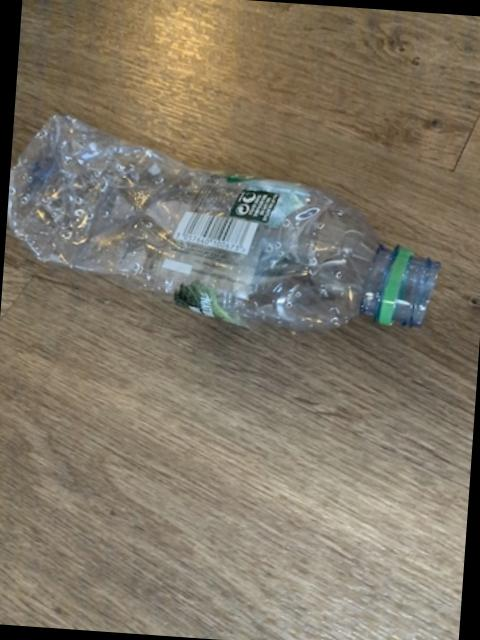plastic: (7, 113, 437, 326)
